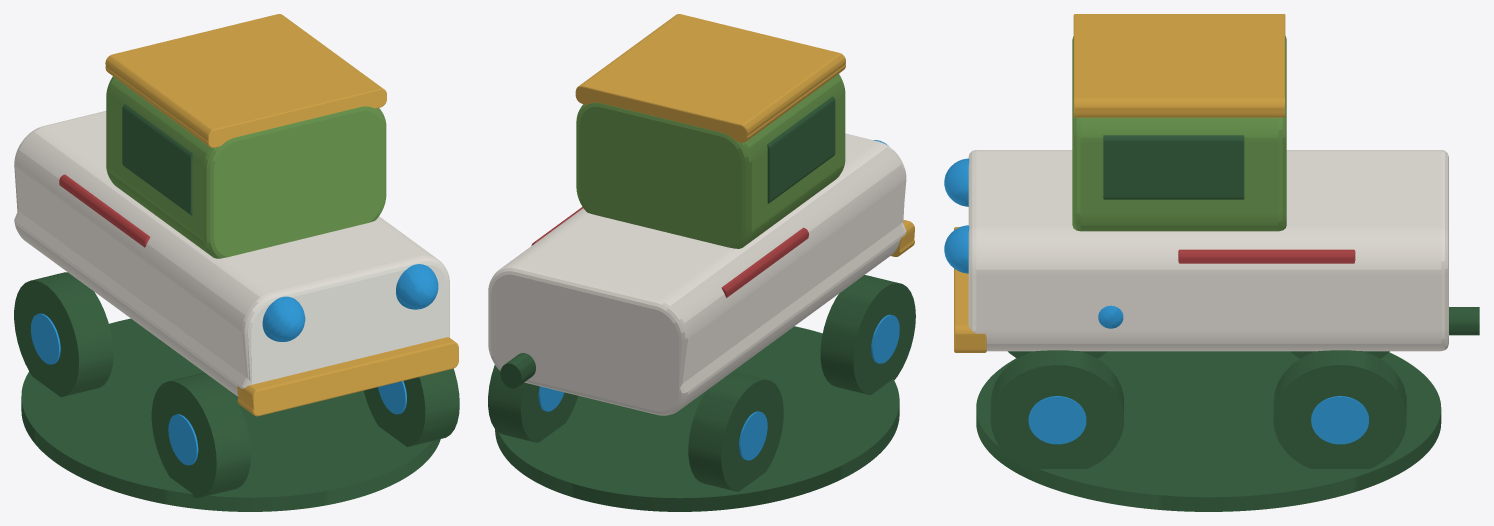
Rendered from 0370_欧洲文明图鉴_封君-封臣.glb.
The picture shows the model from 3 angles, left to right: view 1: azimuth 30°, elevation 25°; view 2: azimuth 150°, elevation 25°; view 3: azimuth 270°, elevation 25°; orthographic projection. The views are drawn at different scales.
Visible parts, largest first — view 1: card_0370; view 2: card_0370; view 3: card_0370.
Part boxes in pixels (bbox=[...]): card_0370: bbox=[14, 14, 459, 511]; card_0370: bbox=[488, 14, 915, 511]; card_0370: bbox=[944, 14, 1479, 511].
Bounding box in the file's own units: 1.04 × 1 × 1.32.
